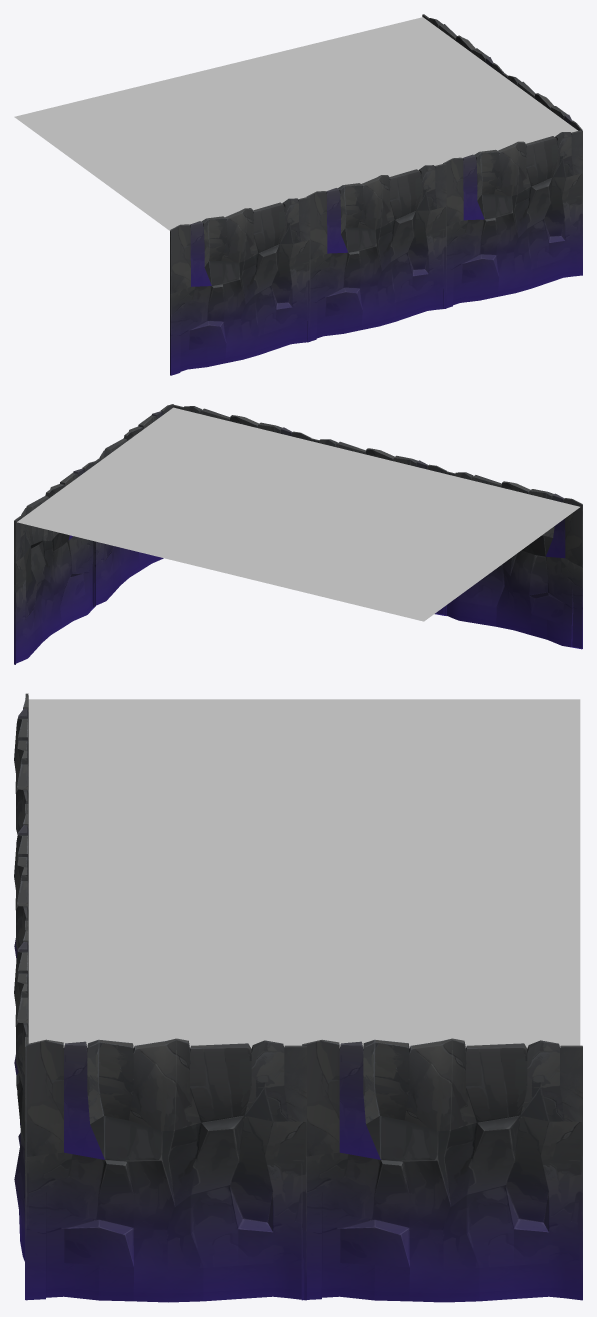
The model's file is Floor_RecRU.FBX.
3 views of the same model, one above another, from view 1: azimuth 30°, elevation 25°; view 2: azimuth 150°, elevation 25°; view 3: azimuth 270°, elevation 25° (orthographic). The views are drawn at different scales.
Visible parts, largest first — view 1: Floor_RecRU, floor; view 2: floor, Floor_RecRU; view 3: floor, Floor_RecRU.
Boxes of the visible parts, x1,y1,x2,y2 form: Floor_RecRU: [170, 14, 582, 375]; floor: [14, 17, 577, 230]; floor: [17, 407, 579, 621]; Floor_RecRU: [14, 404, 582, 664]; floor: [28, 699, 580, 1048]; Floor_RecRU: [14, 693, 582, 1302].
Size of the model in its own units: 1206 by 411 by 812.
